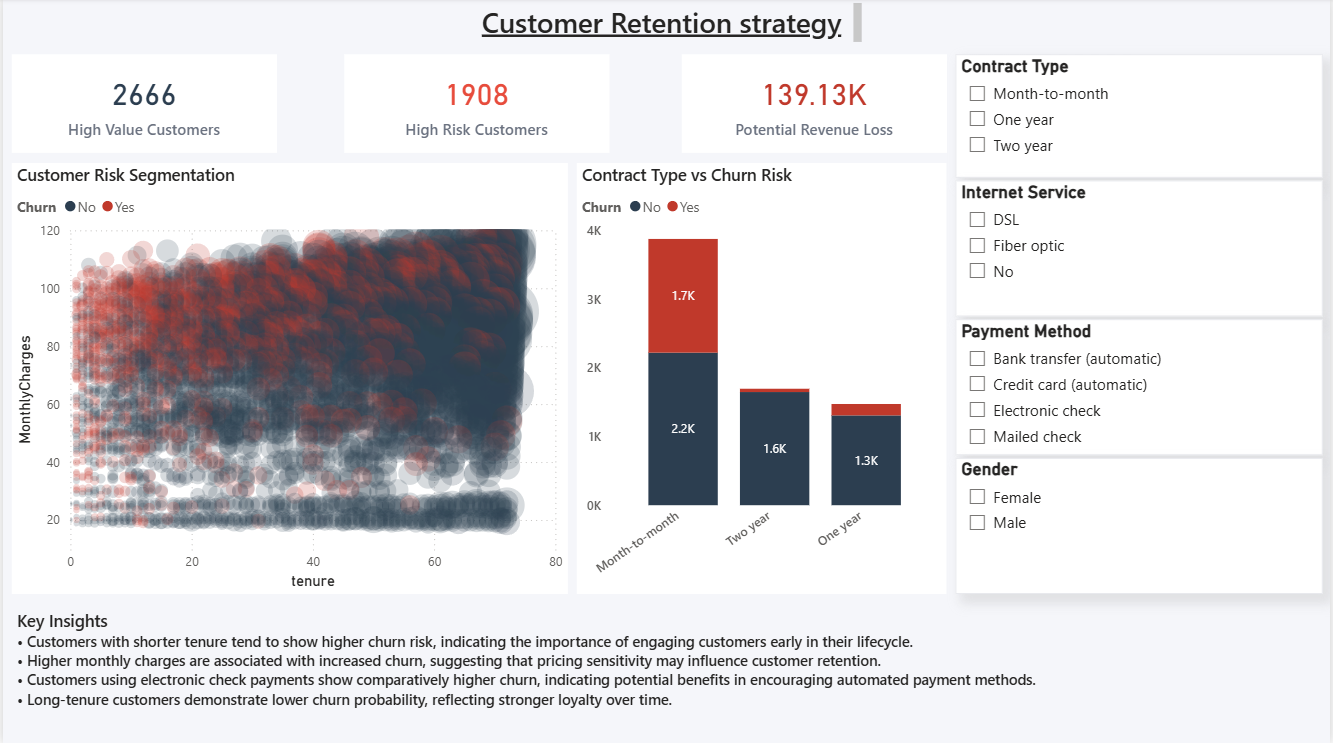

This screenshot's page, from the dashboard's own definition file:
{"tool":"powerbi","page":{"name":"Page 3","canvas":[1280,720],"ordinal":2},"visuals":[{"type":"textbox","box":[446.4,0,387.3,54.3],"z":0},{"type":"card","fields":{"Values":["Churn_data.High Value Customers"]},"box":[8.4,54.3,255.8,95.3],"z":1000},{"type":"card","fields":{"Values":["Churn_data.Potential Revenue Loss"]},"box":[655.1,54.3,255.8,95.3],"z":2000},{"type":"card","fields":{"Values":["Churn_data.High Risk Customers"]},"box":[329.4,54.3,255.8,95.3],"z":3000},{"type":"scatterChart","title":"Customer Risk Segmentation","fields":{"X":["Churn_data.tenure"],"Series":["Churn_data.Churn"],"Size":["Sum(Churn_data.TotalCharges)"],"Y":["Churn_data.MonthlyCharges"]},"box":[8.4,159.3,536.9,416.2],"z":4000},{"type":"columnChart","title":"Contract Type vs Churn Risk","fields":{"Category":["Churn_data.Contract"],"Y":["CountNonNull(Churn_data.customerID)"],"Series":["Churn_data.Churn"]},"box":[553.8,159.3,357.1,416.2],"z":5000},{"type":"slicer","title":"Contract Type","fields":{"Values":["Churn_data.Contract"]},"box":[919.3,54.3,354.7,119.4],"z":6000},{"type":"slicer","title":"Internet Service","fields":{"Values":["Churn_data.InternetService"]},"box":[919.5,176,354.7,131.5],"z":7000},{"type":"slicer","title":"Payment Method","fields":{"Values":["Churn_data.PaymentMethod"]},"box":[919.5,310.1,354.7,131.5],"z":8000},{"type":"slicer","title":"Gender","fields":{"Values":["Churn_data.gender"]},"box":[919.5,444.2,354.7,131.5],"z":9000},{"type":"textbox","box":[8.4,585.1,1008.6,135.1],"z":10000}]}

Visuals, with their boxes in screenshot pixels (x1, y1, x2, y2), scaled from the page's 1280x720 canvas onto the 1333x743 screenshot:
textbox: {"left": 465, "top": 0, "right": 868, "bottom": 56}
card - Churn_data.High Value Customers: {"left": 9, "top": 56, "right": 275, "bottom": 154}
card - Churn_data.Potential Revenue Loss: {"left": 682, "top": 56, "right": 949, "bottom": 154}
card - Churn_data.High Risk Customers: {"left": 343, "top": 56, "right": 609, "bottom": 154}
"Customer Risk Segmentation" scatterChart: {"left": 9, "top": 164, "right": 568, "bottom": 594}
"Contract Type vs Churn Risk" columnChart: {"left": 577, "top": 164, "right": 949, "bottom": 594}
"Contract Type" slicer: {"left": 957, "top": 56, "right": 1327, "bottom": 179}
"Internet Service" slicer: {"left": 958, "top": 182, "right": 1327, "bottom": 317}
"Payment Method" slicer: {"left": 958, "top": 320, "right": 1327, "bottom": 456}
"Gender" slicer: {"left": 958, "top": 458, "right": 1327, "bottom": 594}
textbox: {"left": 9, "top": 604, "right": 1059, "bottom": 742}
